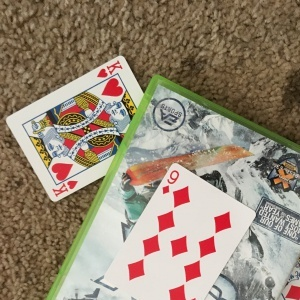card: (6, 58, 149, 202)
